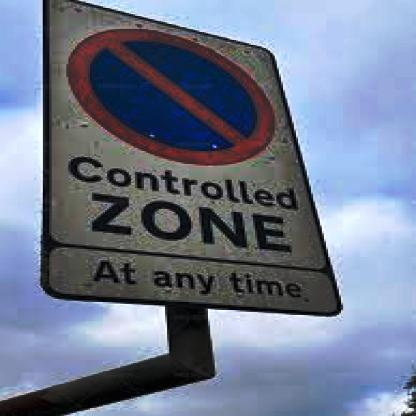No parking: (62, 16, 302, 158)
